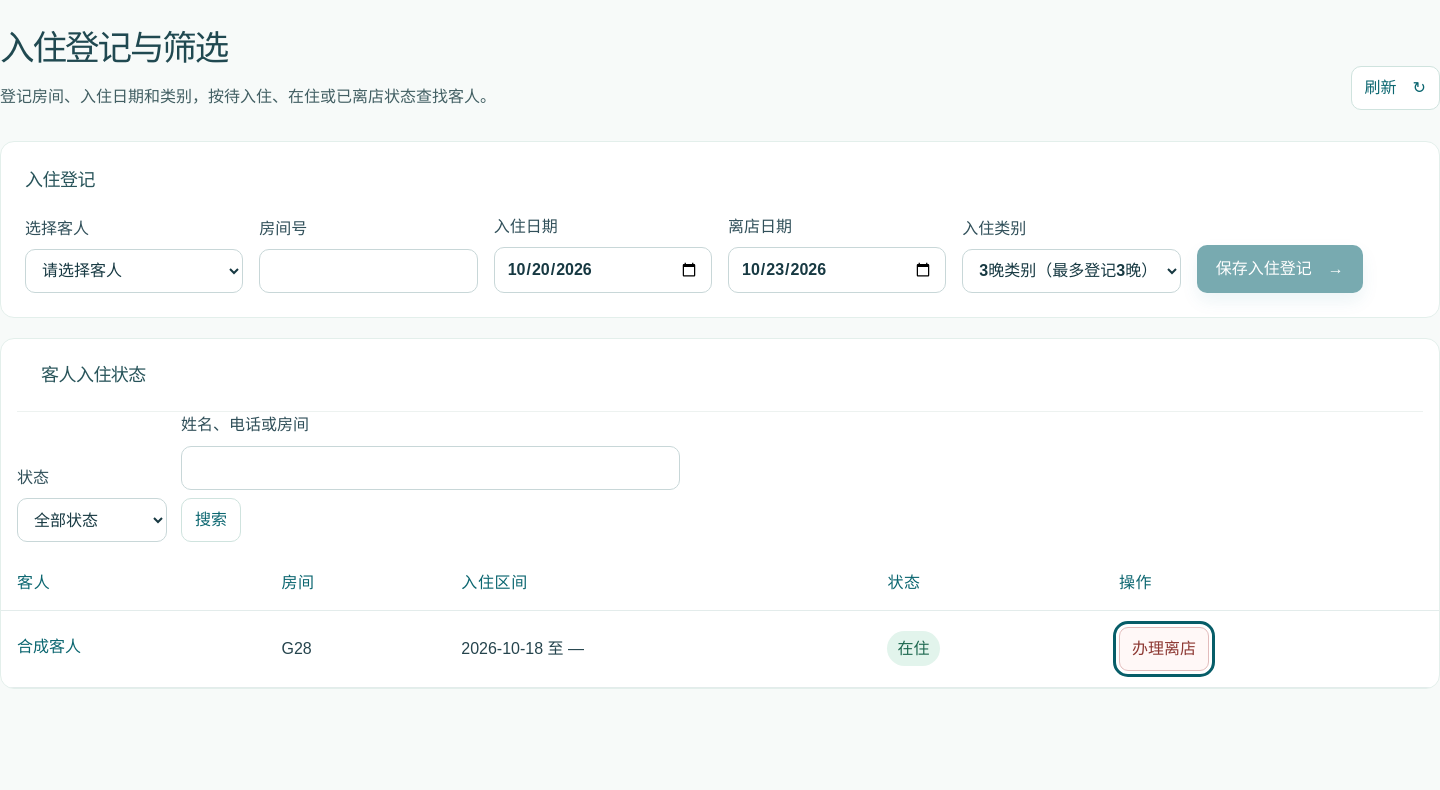
Test: 客人离店 exact request contract › open/cancel writes zero; confirm writes once with cookie protections and unchanged body
What coordinates should you click on to do the following:
click the button "办理离店"
I would click on:
 (1164, 649)
Its box is [1119,627,1209,671].
(page scrolled)
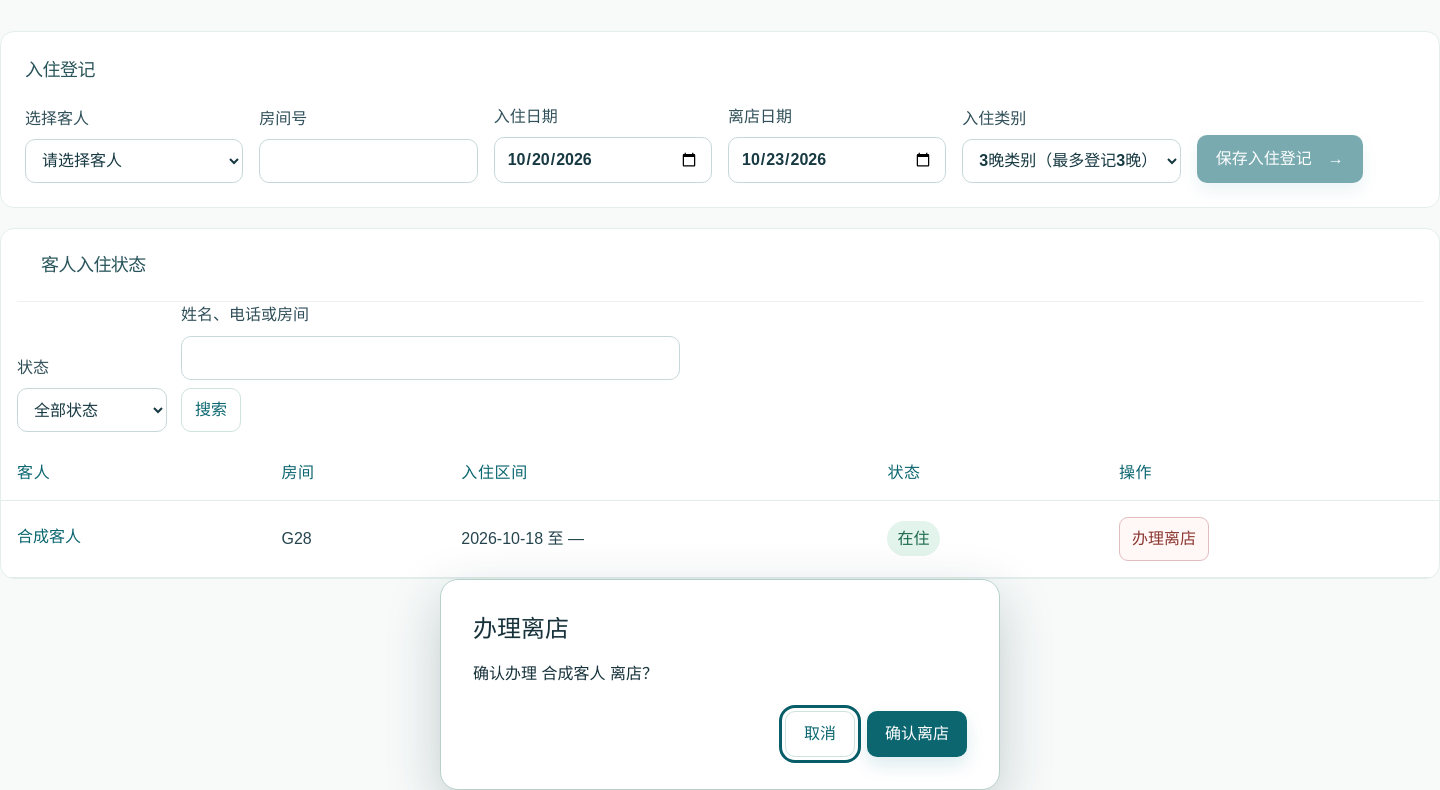
What coordinates should you click on to do the following:
click the button "取消"
I would click on:
 (820, 734)
Its box is [785,711,855,757].
(page scrolled)
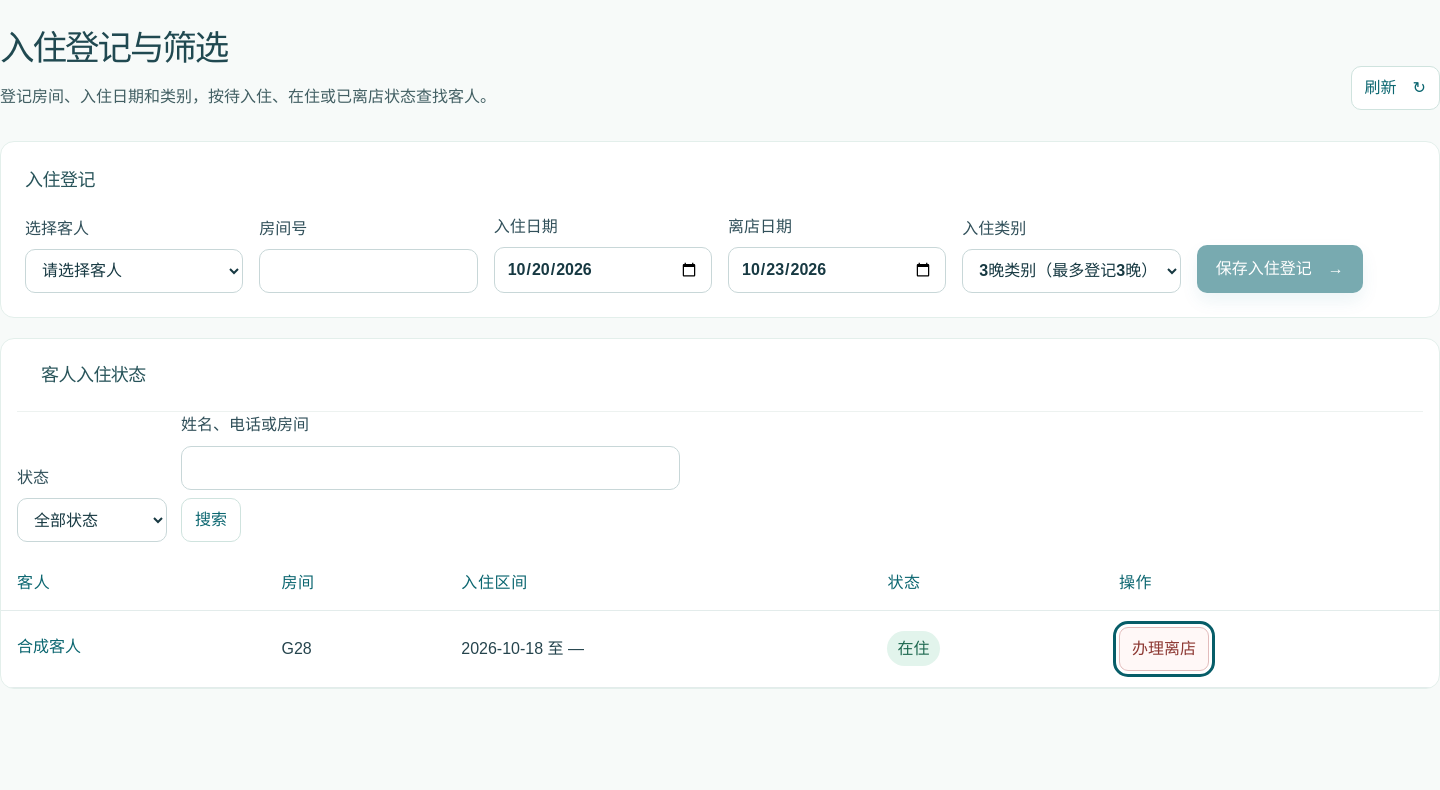
What coordinates should you click on to do the following:
click the button "办理离店"
I would click on:
 (1164, 649)
Its box is [1119,627,1209,671].
(page scrolled)
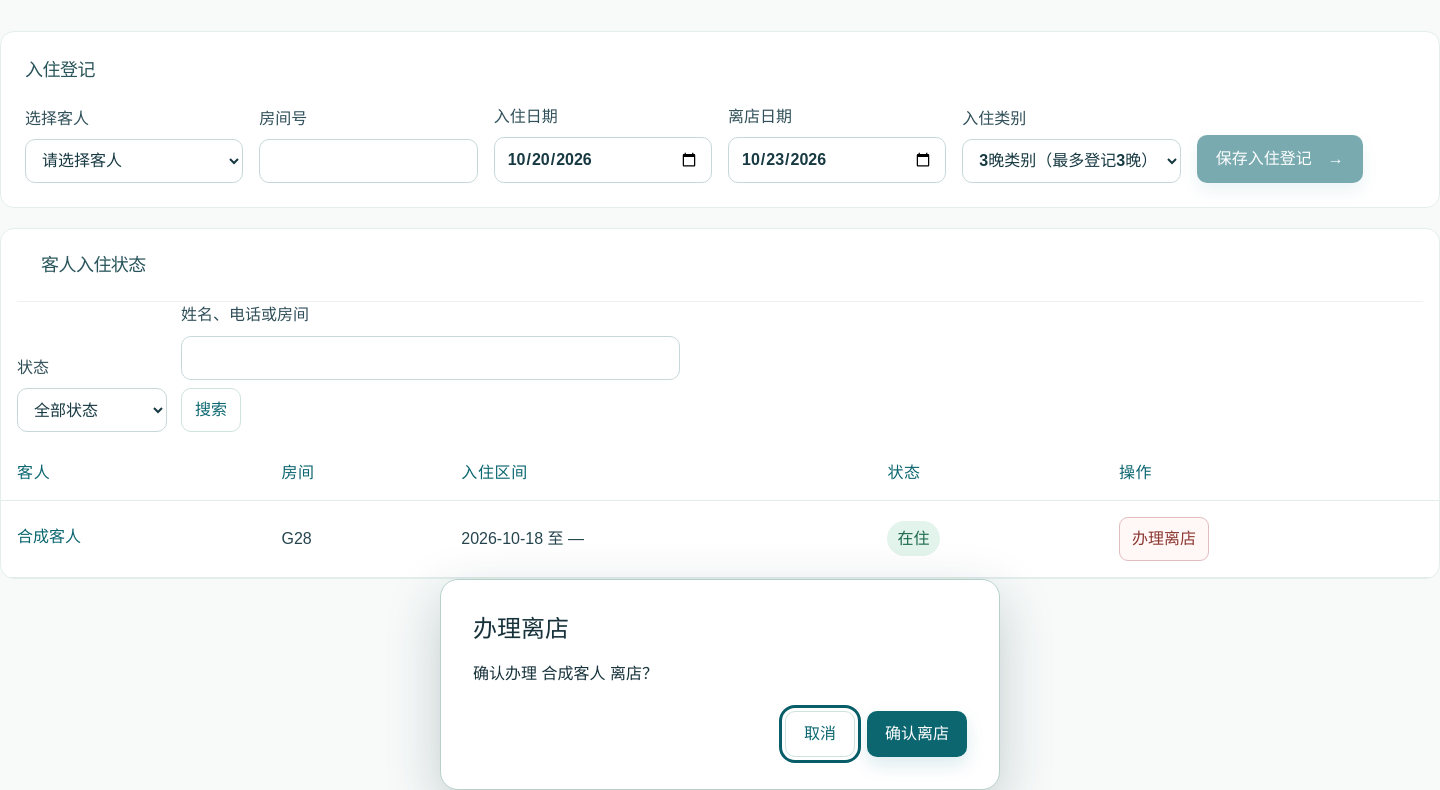
What coordinates should you click on to do the following:
click the button "确认离店"
I would click on:
 (917, 734)
Its box is [867,711,967,757].
(page scrolled)
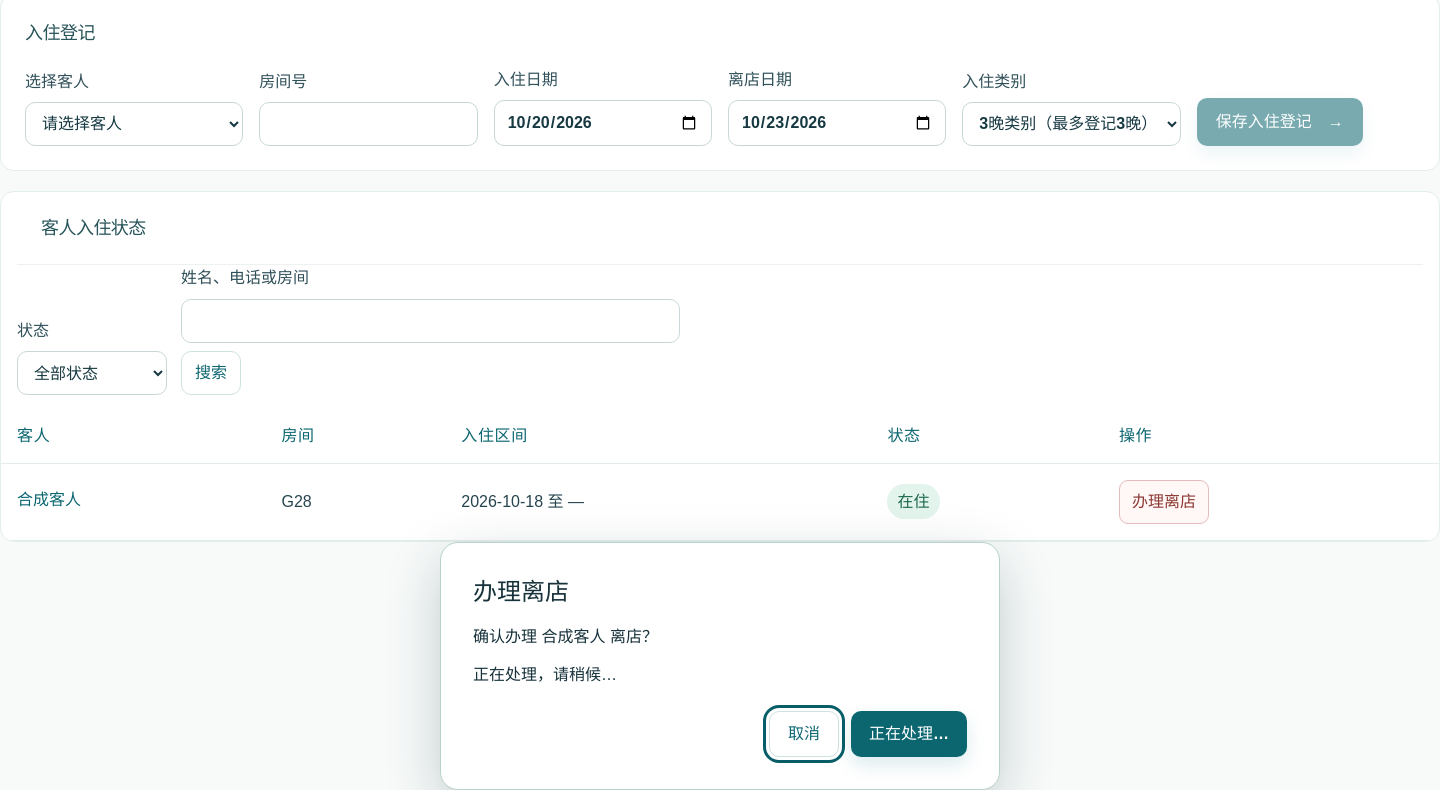
What coordinates should you click on to do the following:
click the button "正在处理…"
I would click on:
 (909, 734)
Its box is [851,711,967,757].
(page scrolled)
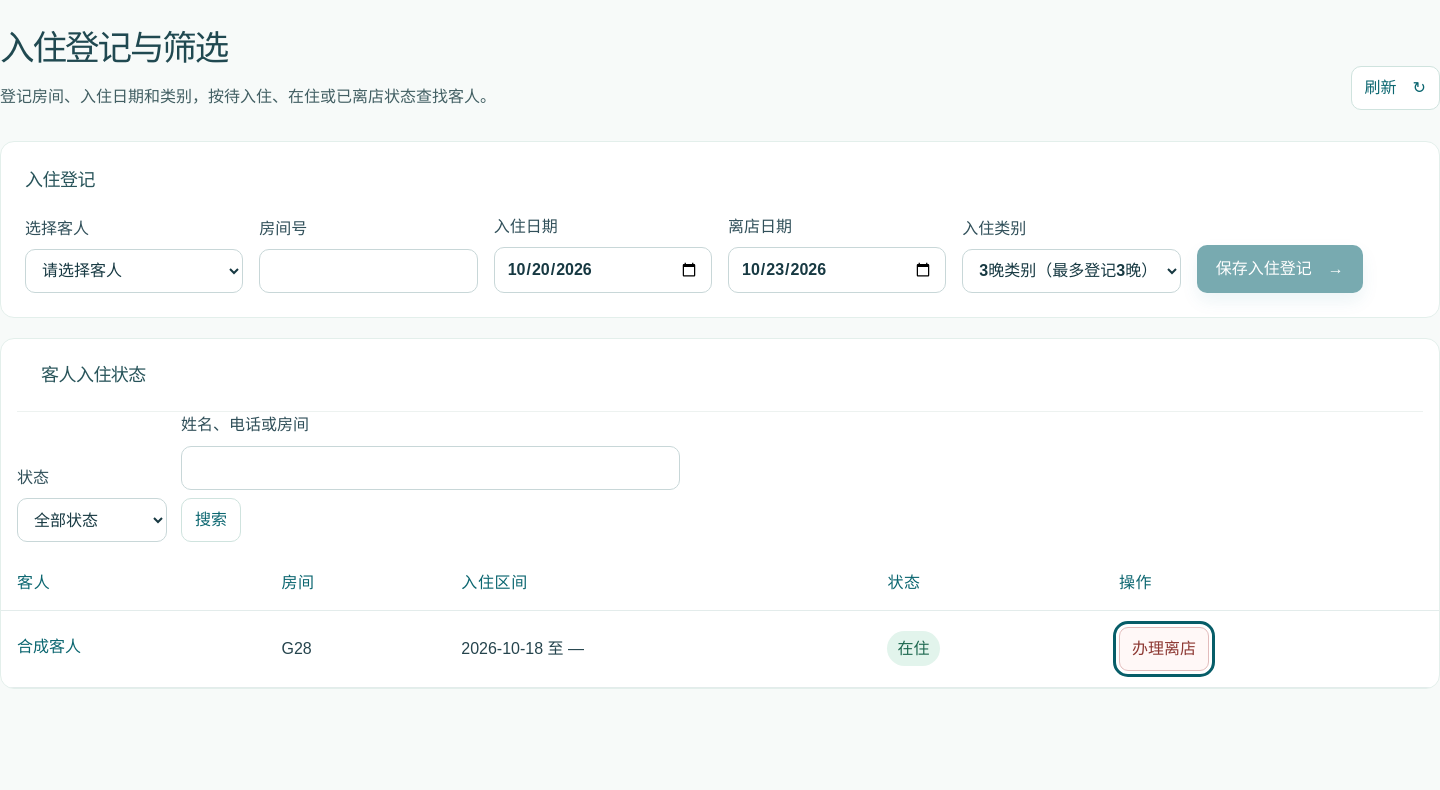
Result: the dialog is gone
